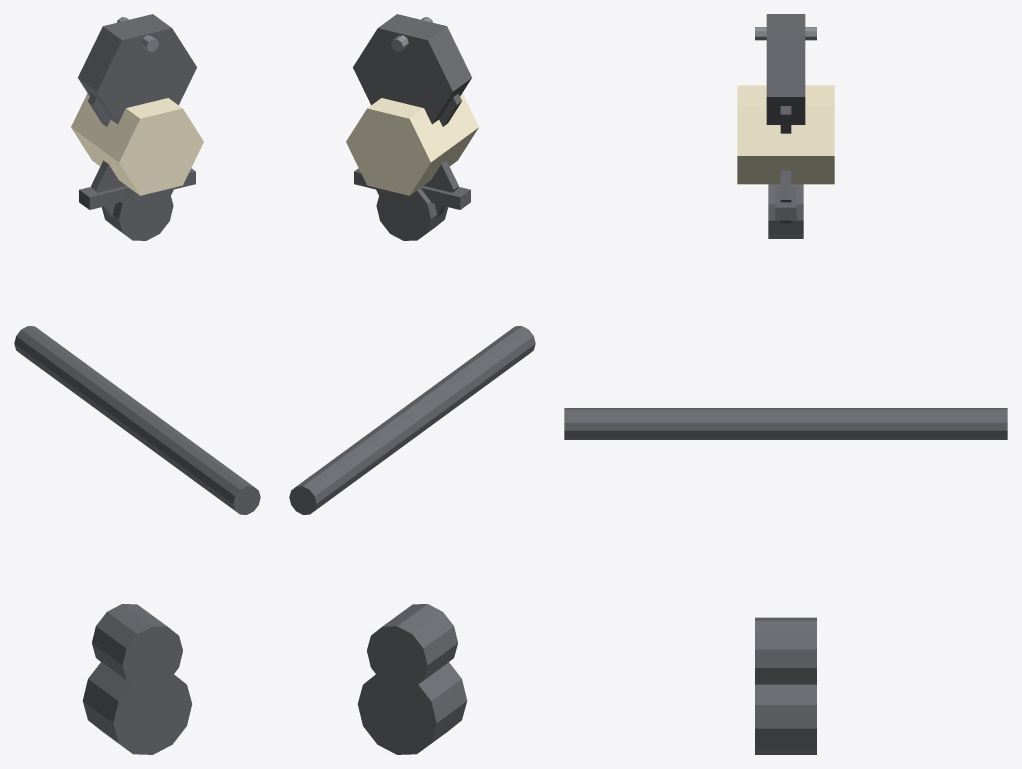
Rendered from turin_lantern_classic.glb.
3 views of the same model, side by side, from view 1: azimuth 30°, elevation 25°; view 2: azimuth 150°, elevation 25°; view 3: azimuth 270°, elevation 25° (orthographic).
Visible parts, largest first — view 1: LanternCastIron, LanternGlass; view 2: LanternCastIron, LanternGlass; view 3: LanternCastIron, LanternGlass.
Boxes of the visible parts, box(x1,y1,x2,y2) form: LanternCastIron: box(14, 14, 260, 754); LanternGlass: box(71, 93, 203, 195); LanternCastIron: box(289, 14, 535, 754); LanternGlass: box(346, 93, 478, 195); LanternCastIron: box(564, 14, 1007, 754); LanternGlass: box(737, 85, 834, 184).
Bounding box in the file's own units: 0.7 × 4.51 × 2.5.
